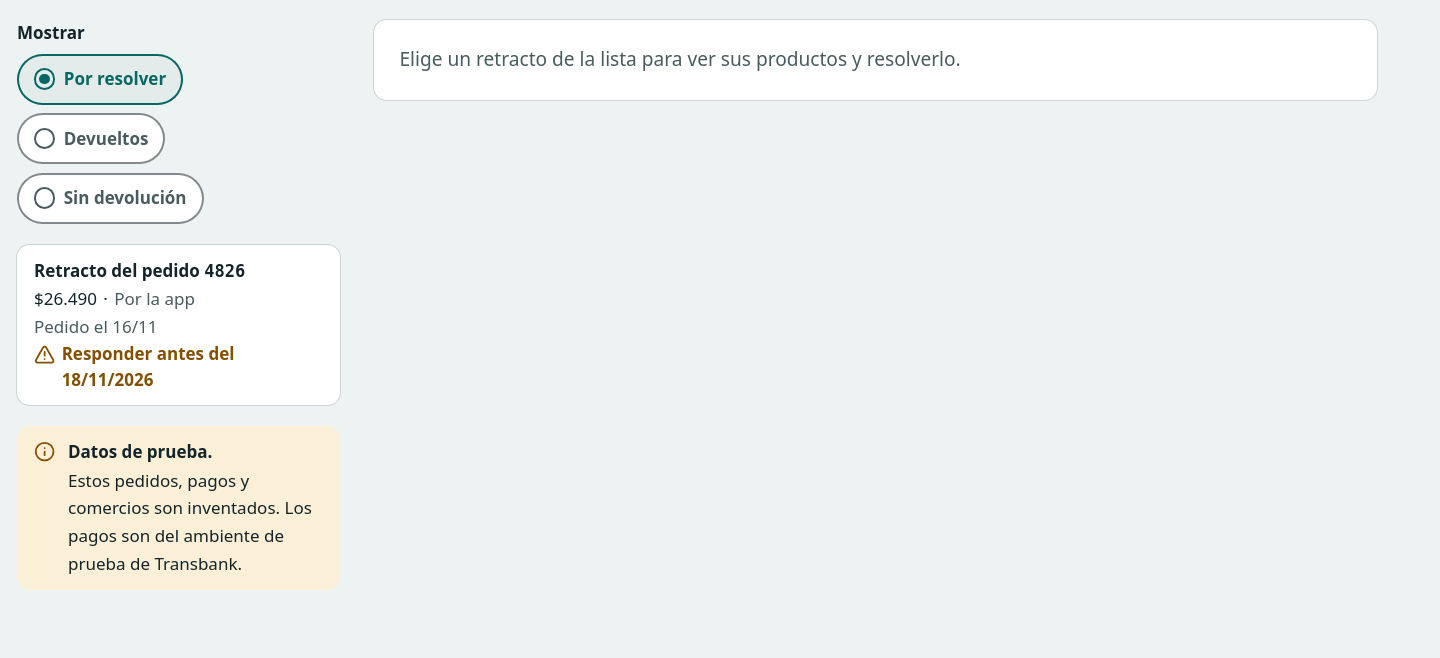
Scenario: Retractos › 8.4 (v1.1): al abrir «No devolver» el foco va a la primera opción; con «Cancelar», vuelve a «No devolver»
(page scrolled)
Click the button with aria-label "Retracto del pedido 4826," at point(117, 270), box top-left (17, 245), bottom-right (340, 405)
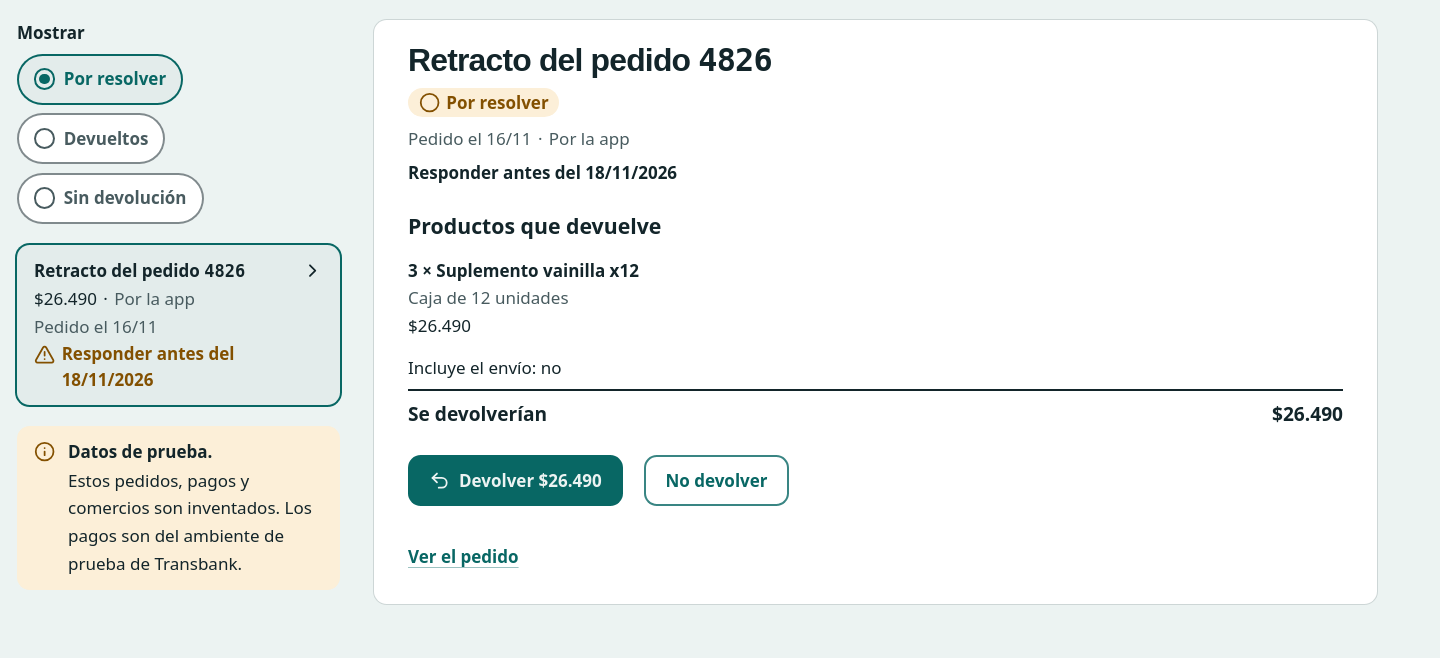
Check: the heading "Retracto del pedido 4826" is shown, box top-left (408, 41), bottom-right (772, 79)
Click the button "No devolver" at point(716, 480), box top-left (644, 455), bottom-right (789, 506)
(page scrolled)
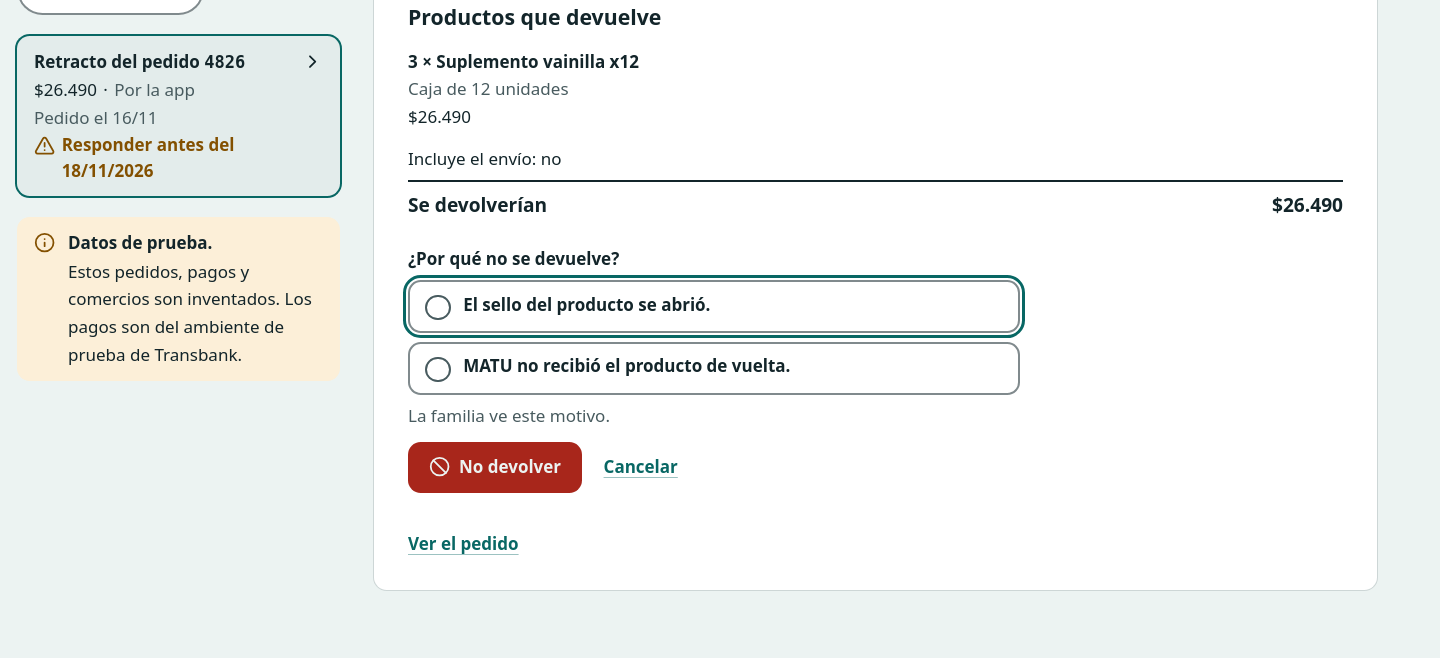
Click the button "Cancelar" at point(641, 467), box top-left (604, 442), bottom-right (678, 492)
(page scrolled)
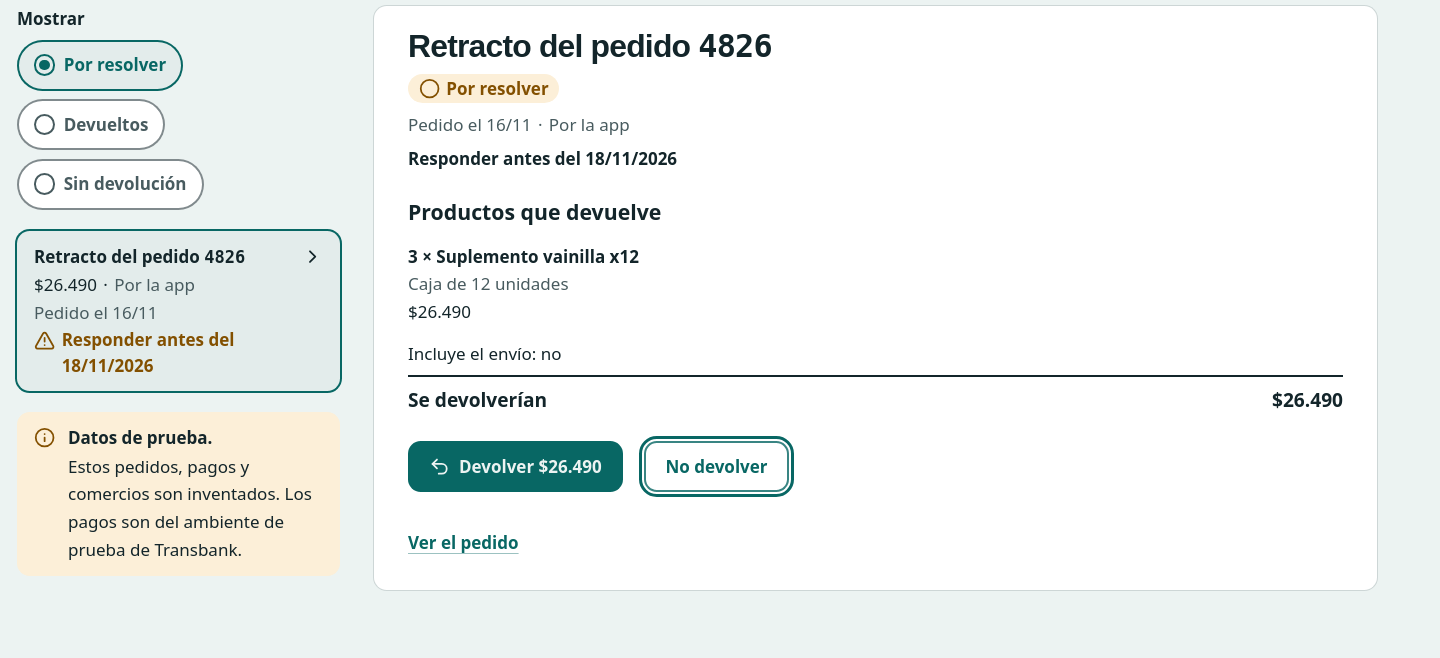
Check: the text "¿Por qué no se devuelve?" is gone
